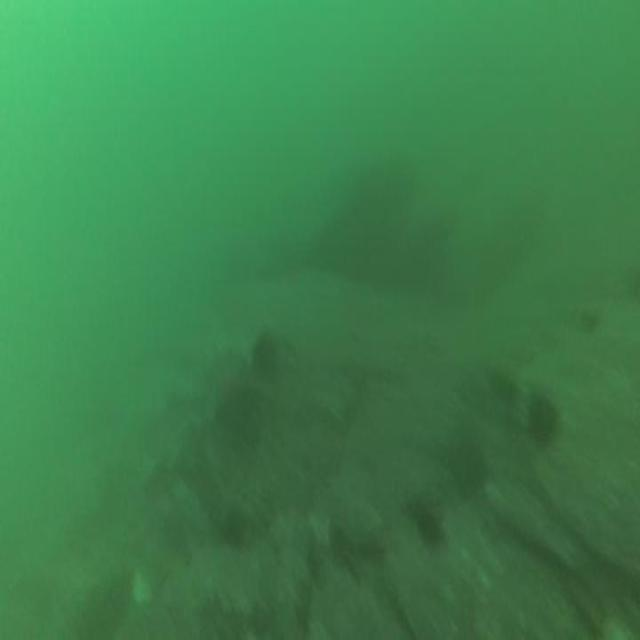echinus: (526, 397, 554, 442), (254, 338, 278, 376)
starfish: (210, 361, 258, 432)
